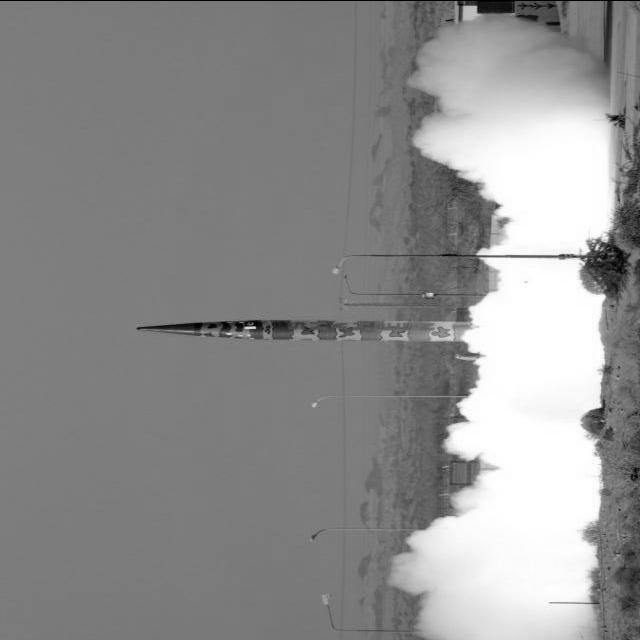missile: (123, 312, 484, 347)
